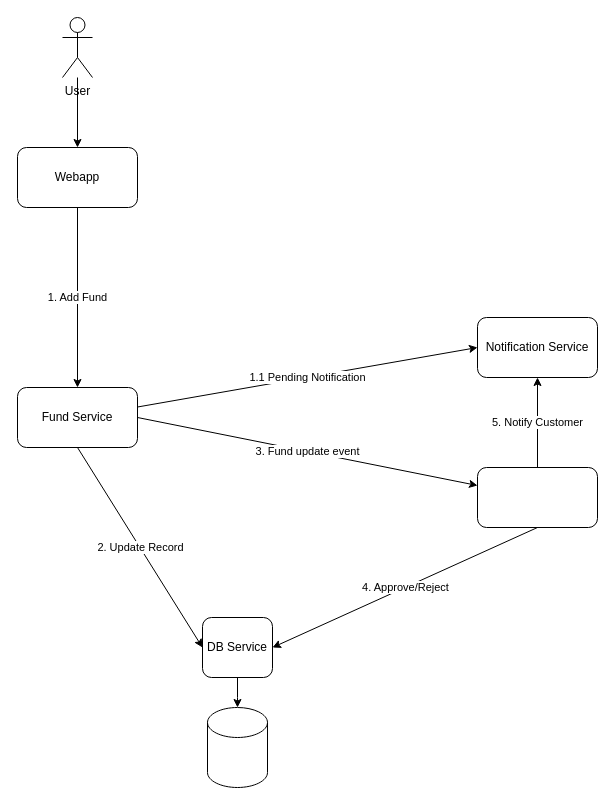
This 615x805 diagram has some shape labels left out. The box of each missing label's shape, as (x1, y1, x2, y2) in pixels:
Control Service: (476, 466, 598, 528)
DB: (206, 706, 268, 788)
